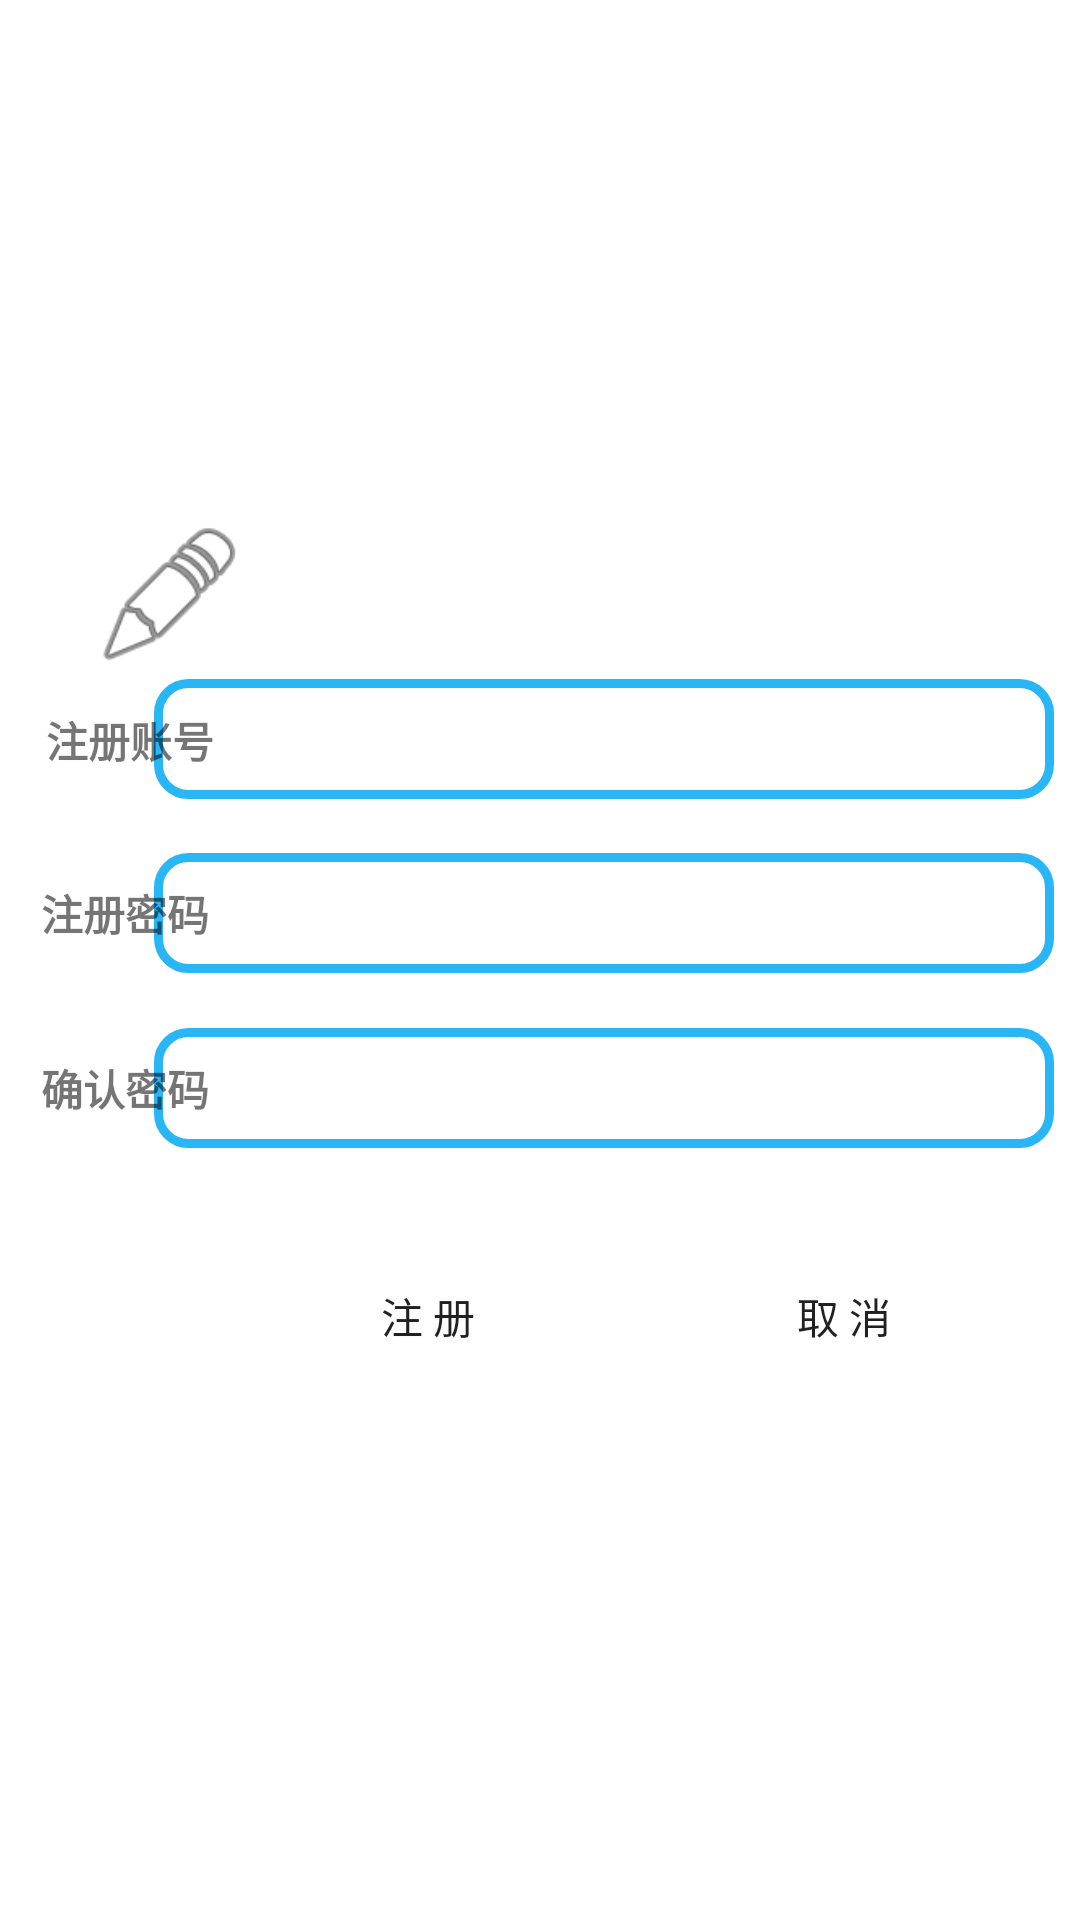

Screen size 1080px x 1920px. Icon name, then its box in pixels as (x1, y1, x2, y2):
edit: (103, 528, 235, 660)
